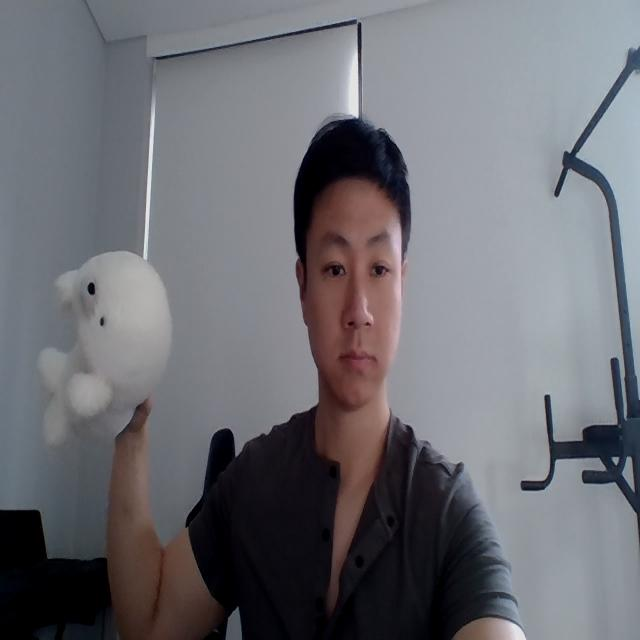seal_bb: (36, 252, 171, 453)
